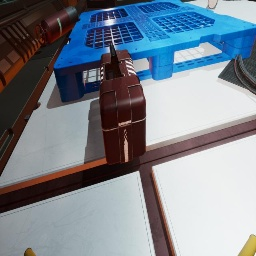0: (208, 0, 218, 9)
FirstAidBox ,: (99, 44, 146, 165), (226, 0, 234, 1)
NitrogenTank ,: (35, 6, 78, 46)
